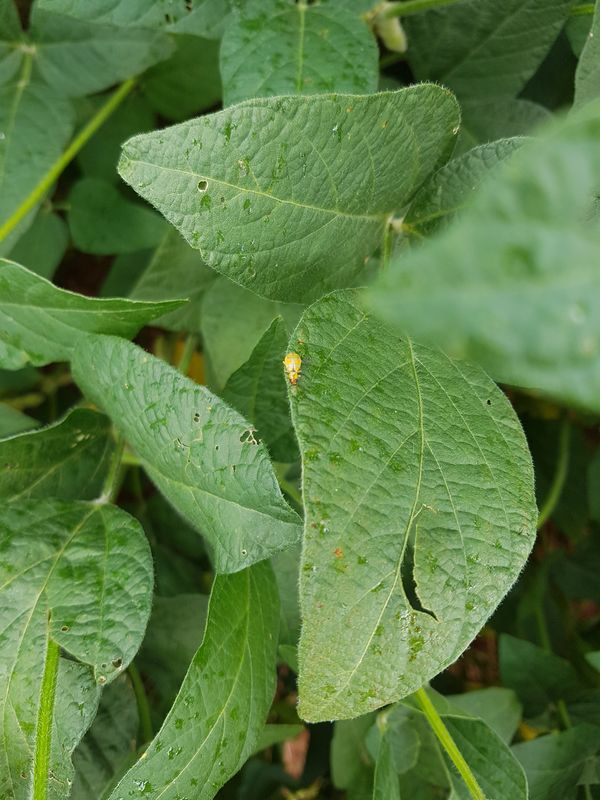Diabrotica_speciosa: (267, 341, 320, 398)
